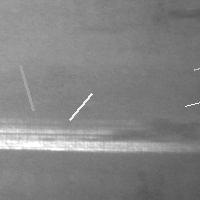scratches: (1, 119, 177, 152), (15, 60, 38, 115), (64, 89, 96, 125), (180, 84, 200, 111), (189, 46, 200, 74)
